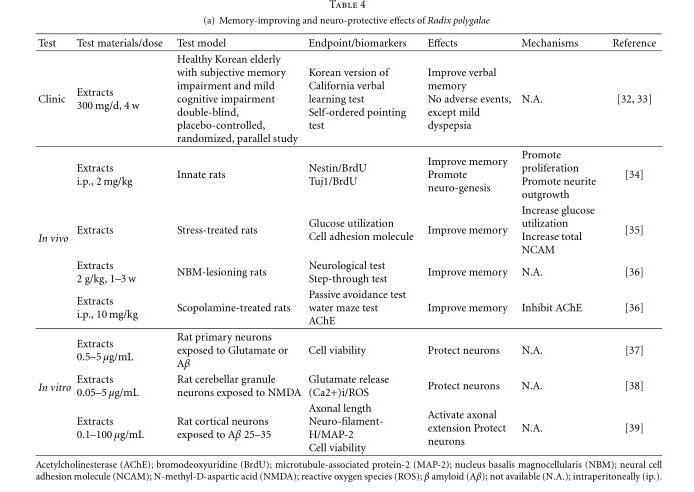table: (37, 36, 655, 453)
table column: (168, 36, 303, 453), (303, 36, 419, 453), (72, 36, 168, 453), (419, 36, 515, 453), (515, 36, 603, 453), (603, 36, 655, 453), (37, 36, 72, 453)
table column header: (37, 36, 655, 50)
table row: (37, 50, 655, 145), (37, 145, 655, 201), (37, 201, 655, 256), (37, 399, 655, 453), (37, 285, 655, 328), (37, 328, 655, 370), (37, 256, 655, 285), (37, 370, 655, 399), (37, 36, 655, 50)
table spanning cell: (37, 145, 72, 328), (37, 328, 72, 453)
